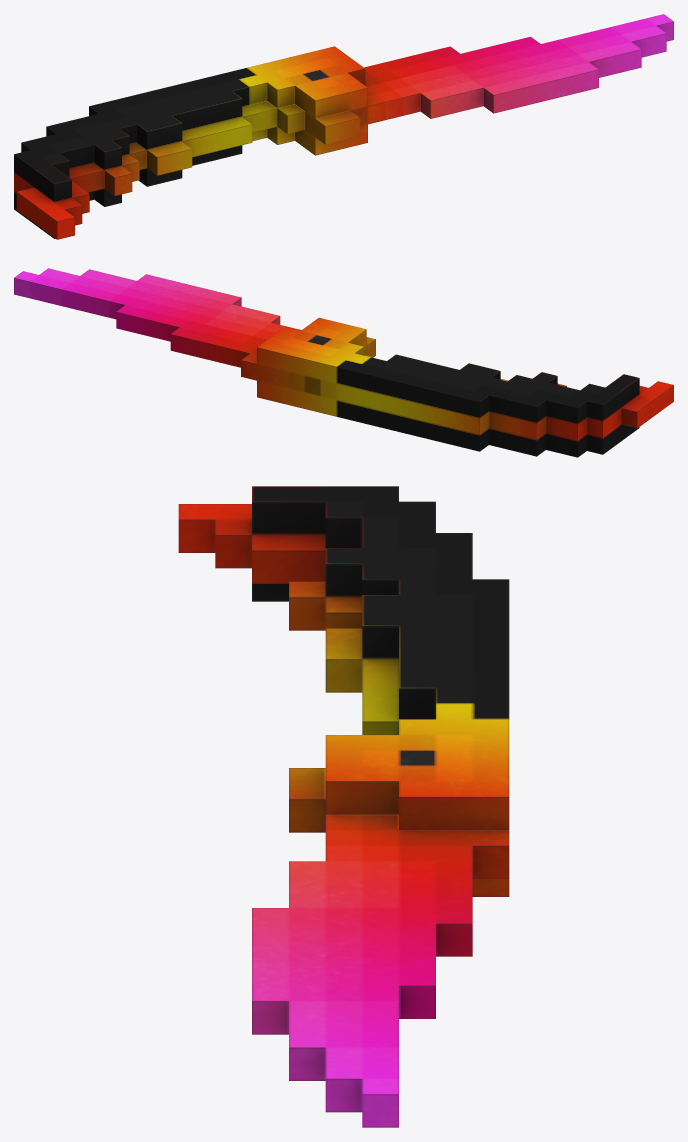
The model's file is RD_FALCHION_GRADIENT.glb.
3 views of the same model, one above another, from view 1: azimuth 30°, elevation 25°; view 2: azimuth 150°, elevation 25°; view 3: azimuth 270°, elevation 25° (orthographic). The views are drawn at different scales.
Parts seen in each view (by area): view 1: FALCHION; view 2: FALCHION; view 3: FALCHION.
Part boxes in pixels (box(x1,y1,x2,y2)): FALCHION: box(14, 14, 673, 239); FALCHION: box(14, 268, 673, 457); FALCHION: box(178, 486, 509, 1127).
Size of the model in its own units: 0.5236 by 0.0413 by 0.124.
Materials: 1 (1 with a texture image).
